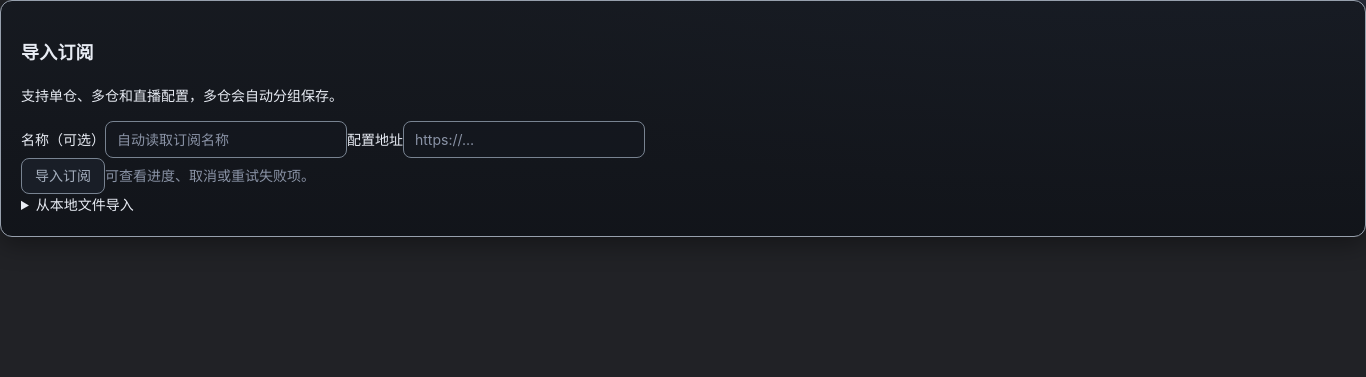
Test: SubscriptionImportSection › imports a local JSON subscription, shows its report, and refreshes sources
The width and height of the screenshot is (1366, 377).
Click the heading "从本地文件导入".
click(85, 204)  # box top-left (36, 196), bottom-right (134, 213)
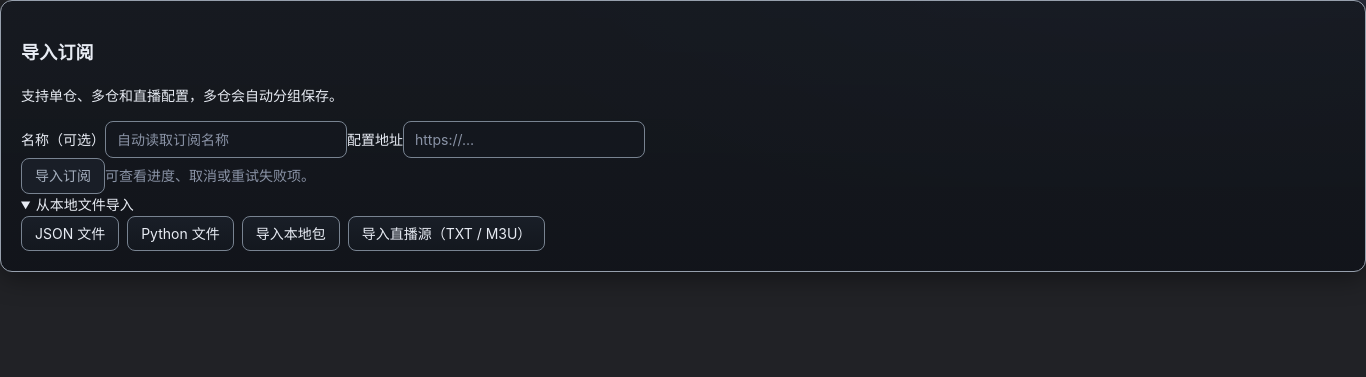
Click the button "JSON 文件".
click(70, 233)  # box top-left (21, 216), bottom-right (119, 251)
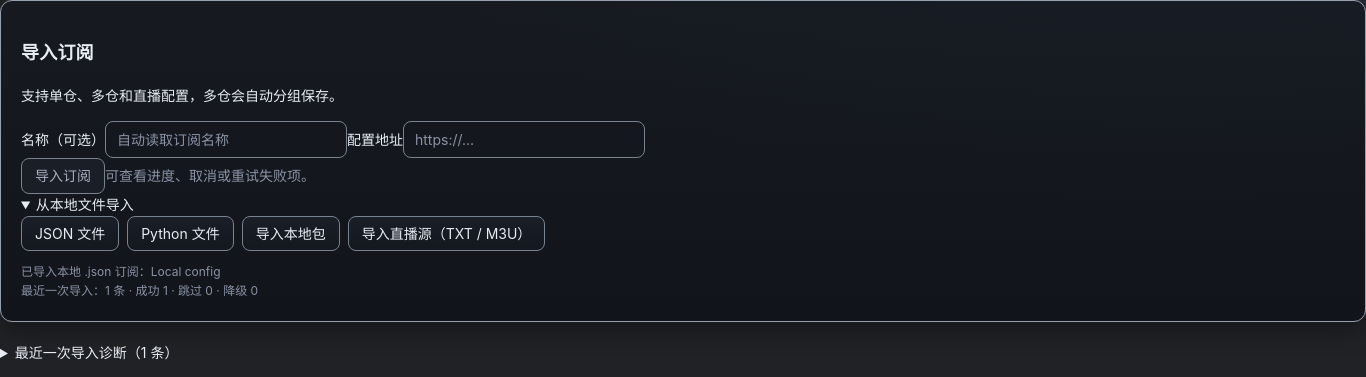
Now the text "最近一次导入：1 条 · 成功 1 · 跳过 0 · 降级 0" is shown, box top-left (21, 283), bottom-right (258, 298)
